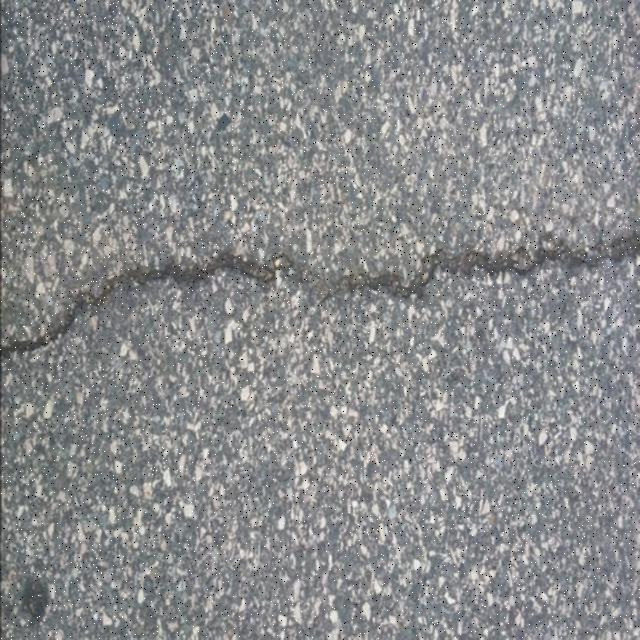Crack: (0, 232, 638, 357)
